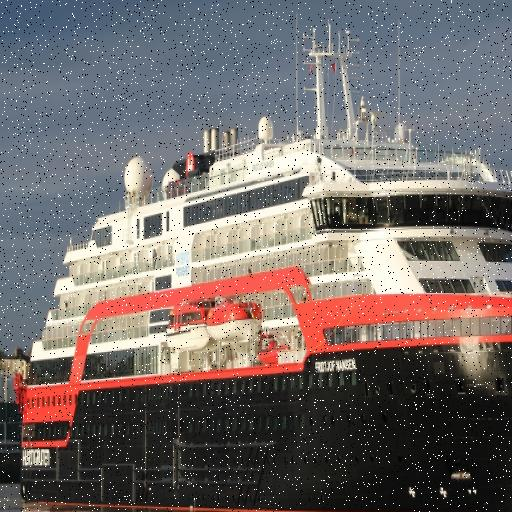cruises: (12, 22, 512, 512)
